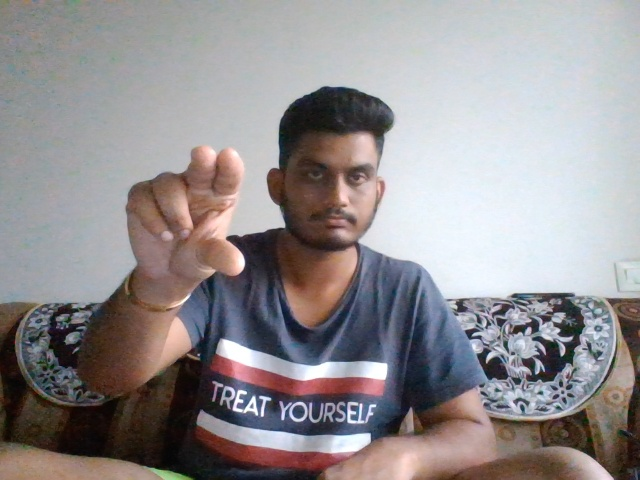No: (100, 145, 268, 278)
